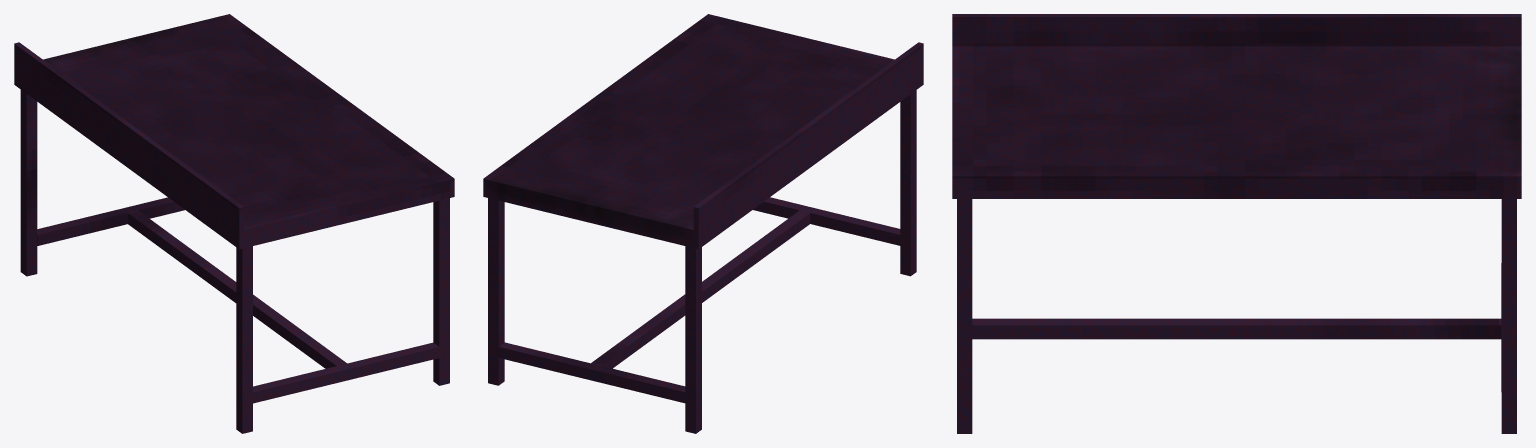
Rendered from workbench.fbx.
3 renders of one model, left to right at view 1: azimuth 30°, elevation 25°; view 2: azimuth 150°, elevation 25°; view 3: azimuth 270°, elevation 25°, orthographic. The views are drawn at different scales.
Visible parts, largest first — view 1: workbench; view 2: workbench; view 3: workbench.
Boxes of the visible parts, box(x1,y1,x2,y2) form: workbench: box(14, 14, 454, 433); workbench: box(483, 14, 923, 433); workbench: box(952, 14, 1521, 433).
Bounding box in the file's own units: 67.55 × 68.39 × 122.
1 material, 1 textured.
